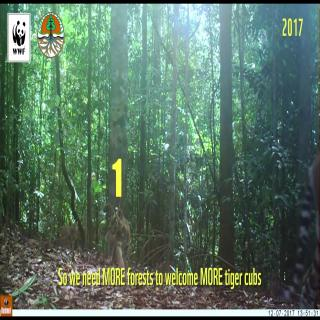Tiger: (102, 203, 132, 269)
